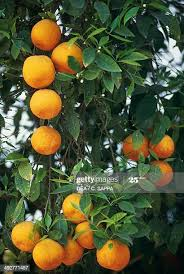orange: (94, 236, 132, 271), (20, 54, 56, 87), (29, 88, 65, 119), (8, 220, 42, 252), (31, 19, 64, 51), (51, 43, 84, 75), (62, 190, 94, 223), (120, 130, 151, 162), (73, 219, 105, 249), (30, 125, 61, 155), (34, 237, 62, 269), (145, 159, 173, 189), (149, 131, 178, 159), (58, 235, 84, 264)
